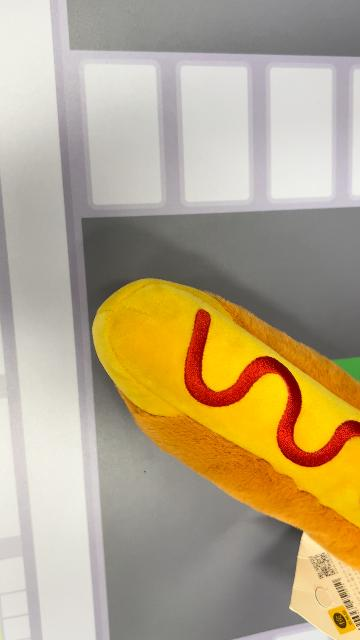hotdog: (92, 276, 358, 574)
